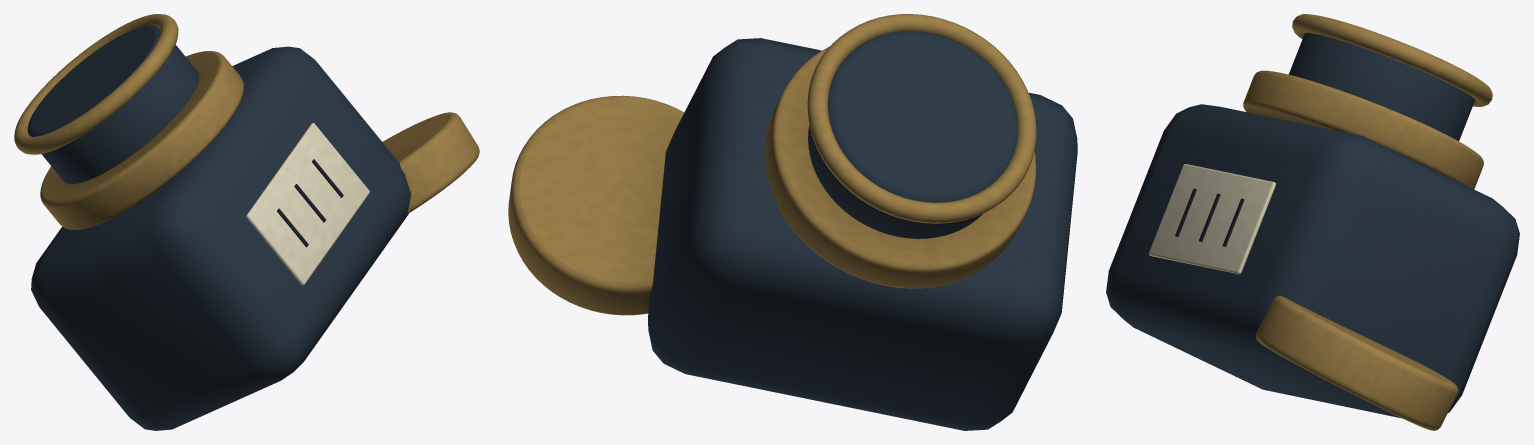
The picture shows the model from 3 angles, left to right: view 1: azimuth 30°, elevation 25°; view 2: azimuth 150°, elevation 25°; view 3: azimuth 270°, elevation 25°; orthographic projection. The views are drawn at different scales.
Visible parts, largest first — view 1: Squat thick glass inkwell; view 2: Squat thick glass inkwell; view 3: Squat thick glass inkwell.
Part boxes in pixels (x1=…): Squat thick glass inkwell: x1=14, y1=14, x2=479, y2=430; Squat thick glass inkwell: x1=508, y1=14, x2=1077, y2=430; Squat thick glass inkwell: x1=1106, y1=14, x2=1519, y2=430.
Bounding box in the file's own units: 1.37 × 1.07 × 1.04.
Materials: 1 (1 with a texture image).
